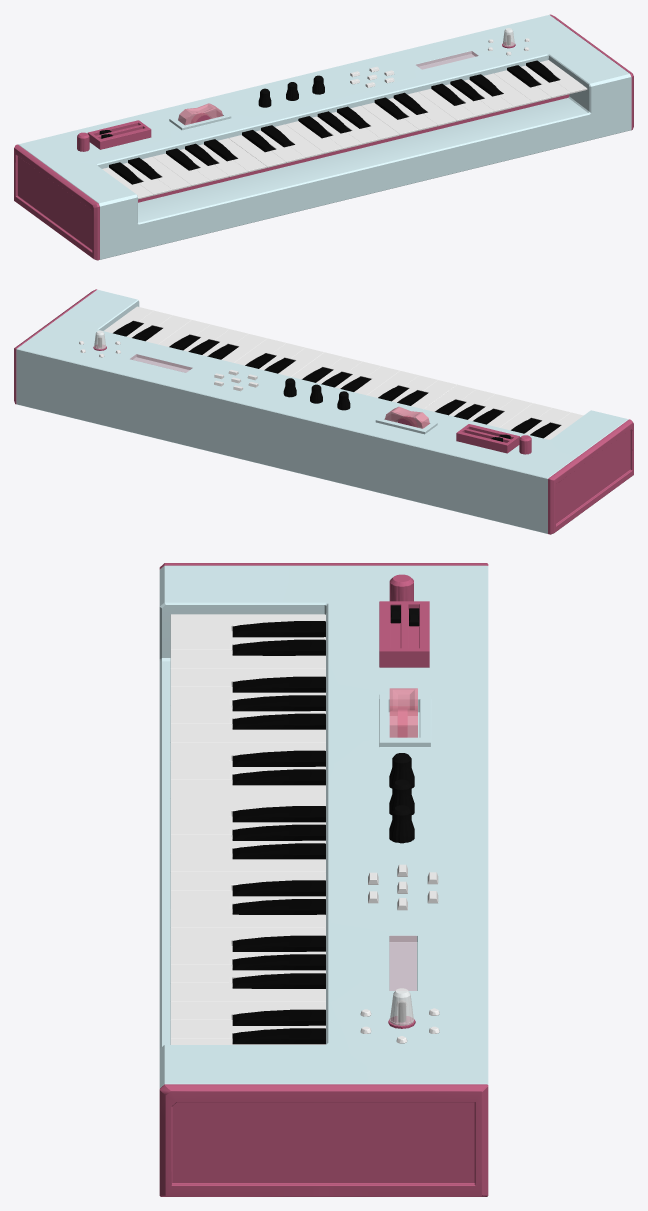
Rendered from piano_final.glb.
3 renders of one model, top to bottom at view 1: azimuth 30°, elevation 25°; view 2: azimuth 150°, elevation 25°; view 3: azimuth 270°, elevation 25°, orthographic. The views are drawn at different scales.
Size of the model in its own units: 24.75 by 3.15 by 6.52.
